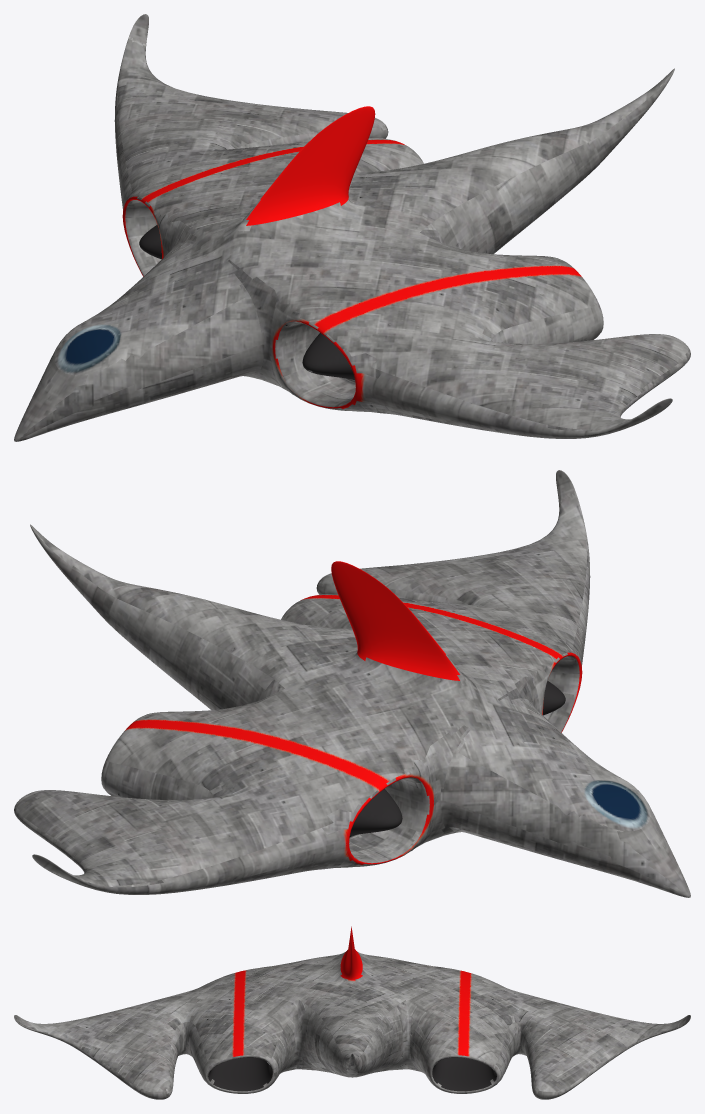
The model's file is statek OBJ czerwony.obj.
3 views of the same model, one above another, from view 1: azimuth 30°, elevation 25°; view 2: azimuth 150°, elevation 25°; view 3: azimuth 270°, elevation 25° (orthographic). The views are drawn at different scales.
Visible parts, largest first — view 1: Box001; view 2: Box001; view 3: Box001.
Part boxes in pixels (x1=…): Box001: x1=14, y1=14, x2=690, y2=441; Box001: x1=14, y1=470, x2=690, y2=897; Box001: x1=14, y1=926, x2=690, y2=1099.
Size of the model in its own units: 110 by 39.9 by 152.
